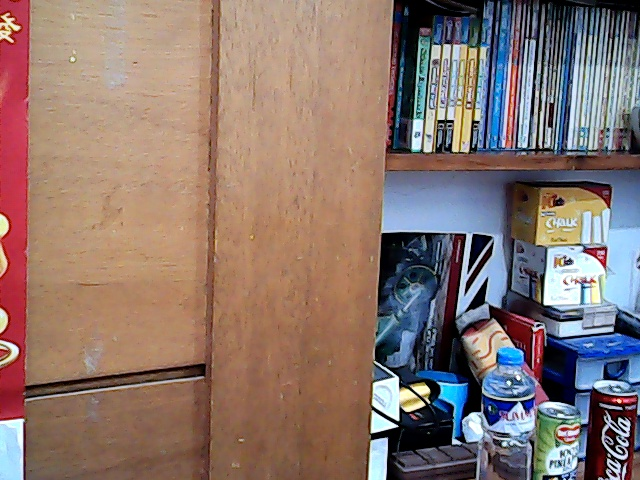Cola: (587, 381, 640, 480)
Pine Juice: (536, 394, 582, 480)
Summit Water: (477, 344, 535, 480)
